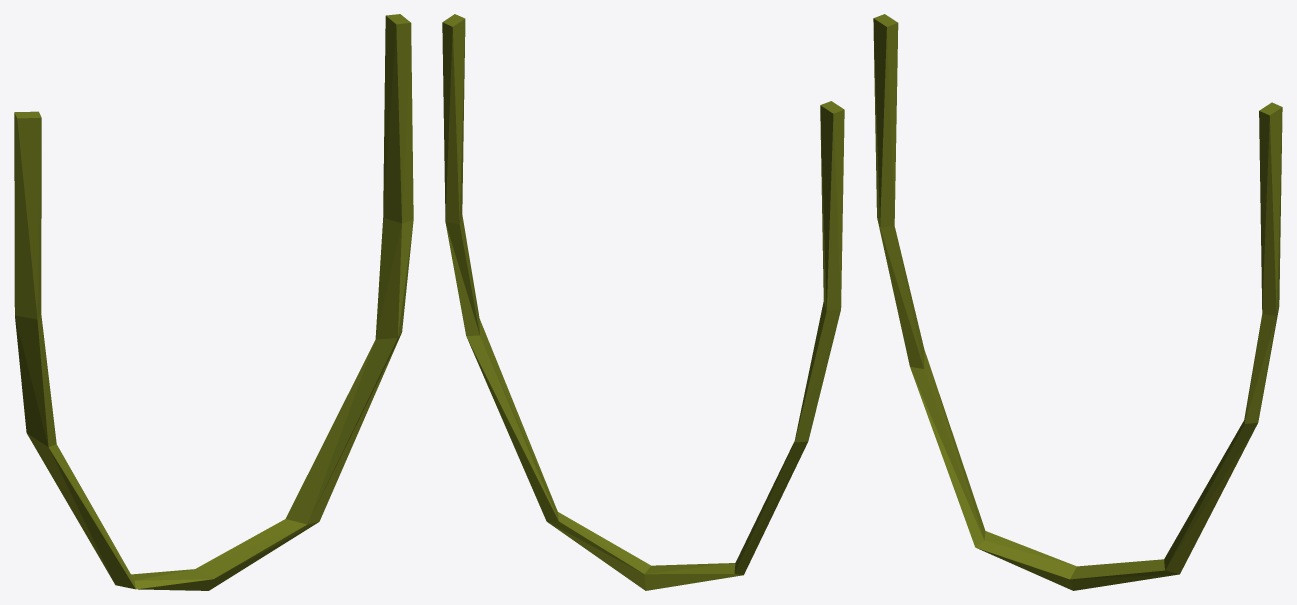
File: Vine_6.fbx
3 views of the same model, side by side, from view 1: azimuth 30°, elevation 25°; view 2: azimuth 150°, elevation 25°; view 3: azimuth 330°, elevation 25° (orthographic).
Parts seen in each view (by area): view 1: Vine_6.001; view 2: Vine_6.001; view 3: Vine_6.001.
Boxes of the visible parts, <box> form: Vine_6.001: <box>14,14,413,590</box>; Vine_6.001: <box>442,14,844,590</box>; Vine_6.001: <box>873,14,1282,590</box>.
Bounding box in the file's own units: 1.69 × 2.13 × 0.1877.
